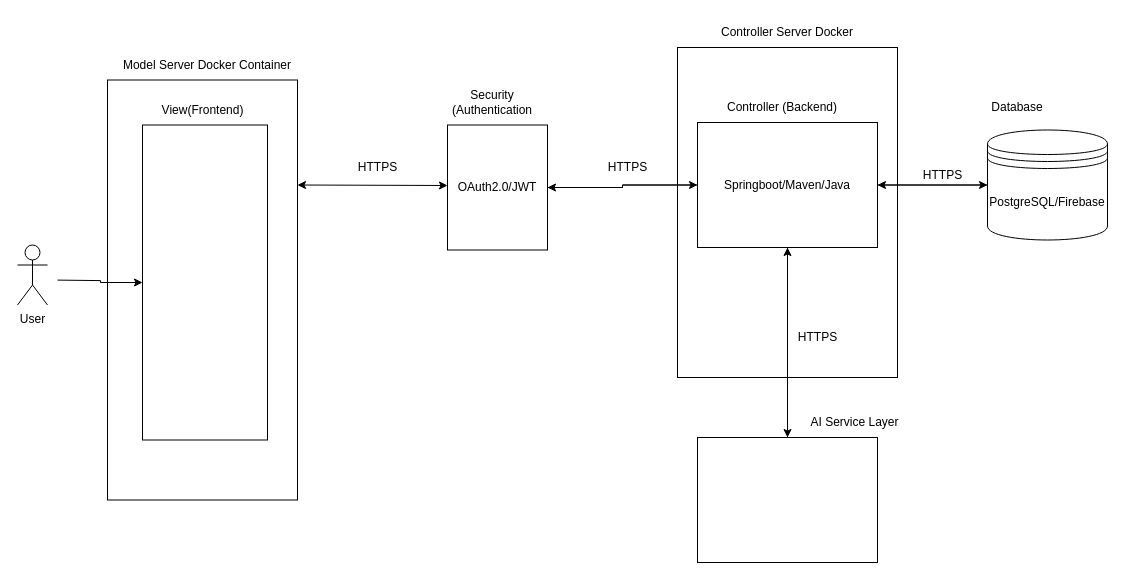
This 1125x580 diagram has some shape labels left out. The shapes that lost their labels are listed below. From the top down, each one's centre as x and y in pixels, then its label:
[205,282]: HTML React TypeScript Next.js
[787,499]: GPT4.0/Claude 3.5 Sonnet/DeepSeek
